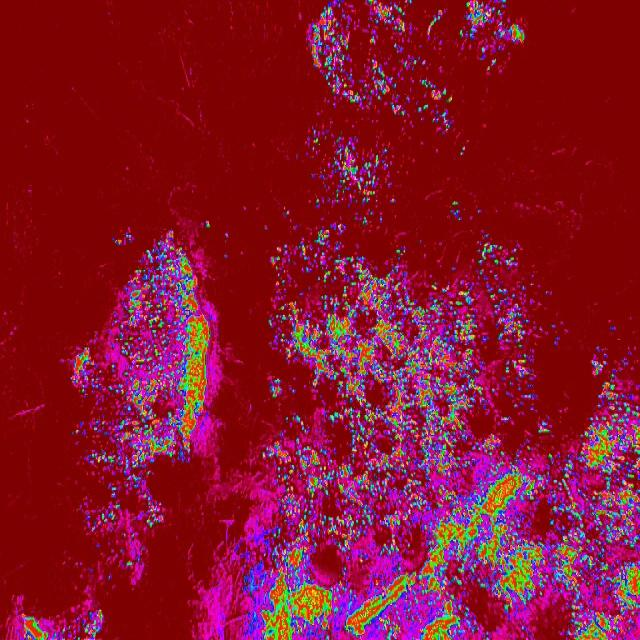fire: (264, 237, 535, 640), (118, 223, 220, 448), (75, 340, 162, 588), (583, 350, 640, 640), (302, 0, 418, 110), (536, 424, 582, 640), (213, 470, 264, 640), (311, 133, 398, 221), (453, 0, 528, 66), (13, 602, 104, 640)
